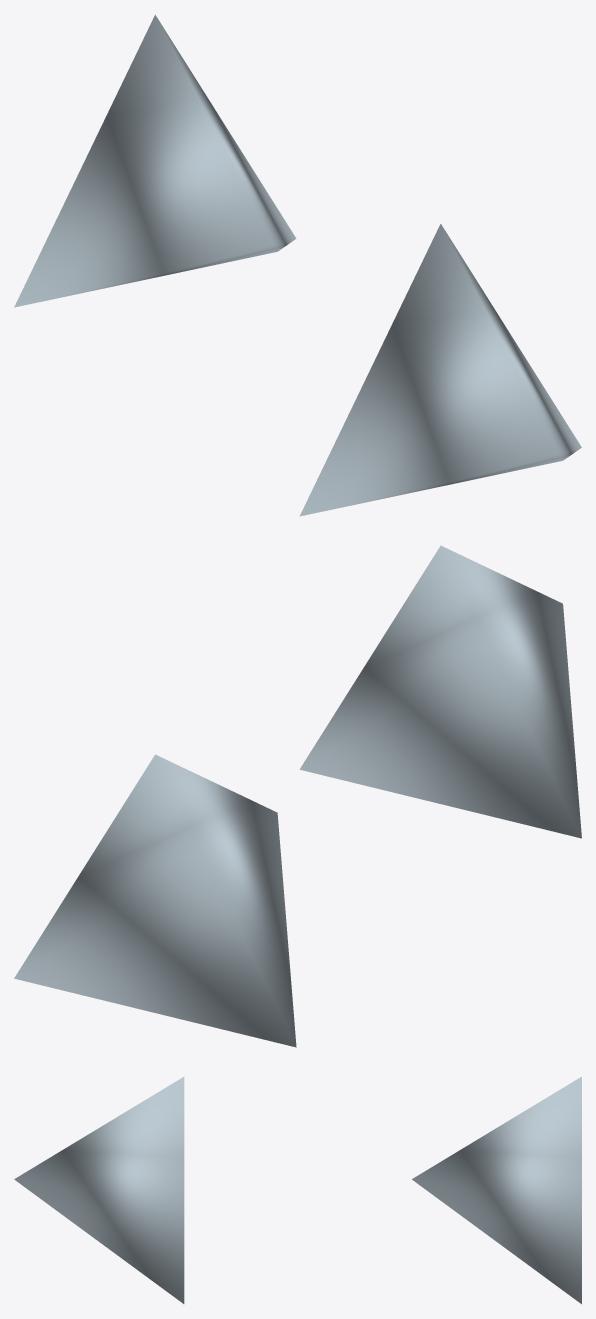
File: hero4_early_termination_tetrahedra.gltf
3 renders of one model, top to bottom at view 1: azimuth 30°, elevation 25°; view 2: azimuth 150°, elevation 25°; view 3: azimuth 270°, elevation 25°, orthographic. The views are drawn at different scales.
Visible parts, largest first — view 1: hero4_termination_front_shell, hero4_termination_deeper_shell; view 2: hero4_termination_deeper_shell, hero4_termination_front_shell; view 3: hero4_termination_deeper_shell, hero4_termination_front_shell.
Boxes of the visible parts, x1,y1,x2,y2 form: hero4_termination_front_shell: [14, 14, 296, 307]; hero4_termination_deeper_shell: [299, 224, 581, 516]; hero4_termination_deeper_shell: [299, 545, 581, 838]; hero4_termination_front_shell: [14, 754, 296, 1047]; hero4_termination_deeper_shell: [14, 1077, 184, 1303]; hero4_termination_front_shell: [412, 1076, 581, 1304].
Bounding box in the file's own units: 0.4 × 0.35 × 1.
